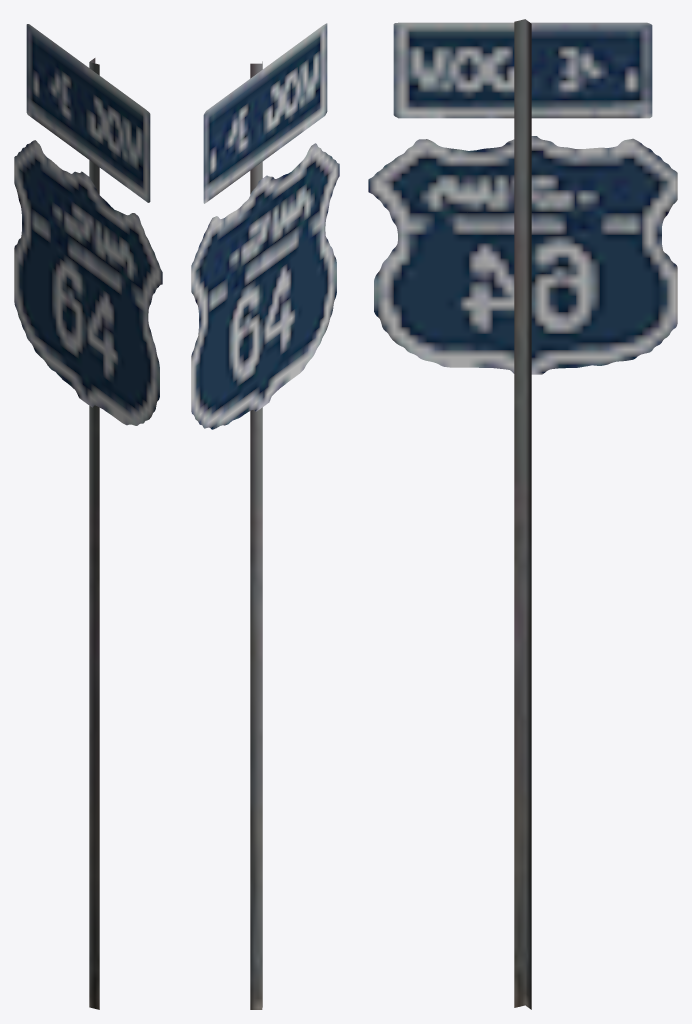
The model's file is lupai01.FBX.
3 views of the same model, side by side, from view 1: azimuth 30°, elevation 25°; view 2: azimuth 150°, elevation 25°; view 3: azimuth 270°, elevation 25° (orthographic). The views are drawn at different scales.
Parts seen in each view (by area): view 1: lupai01; view 2: lupai01; view 3: lupai01.
Part boxes in pixels (x1,y1,x2,y2): lupai01: (14, 24, 162, 1009); lupai01: (191, 23, 339, 1009); lupai01: (368, 19, 677, 1009).
Bounding box in the file's own units: 0.0881 × 7.34 × 2.08.
2 materials, 2 textured.
